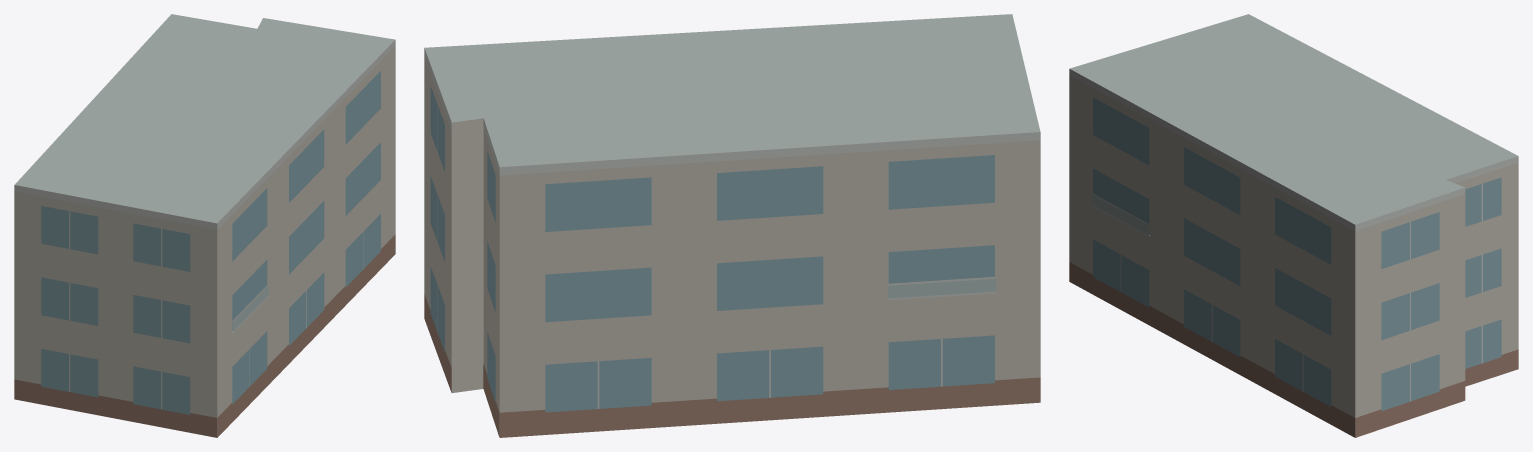
The model's file is survey-upis-33036124.glb.
3 renders of one model, left to right at view 1: azimuth 30°, elevation 25°; view 2: azimuth 150°, elevation 25°; view 3: azimuth 270°, elevation 25°, orthographic. The views are drawn at different scales.
Visible parts, largest first — view 1: survey-upis-33036124.tmp; view 2: survey-upis-33036124.tmp; view 3: survey-upis-33036124.tmp.
Boxes of the visible parts, x1,y1,x2,y2 form: survey-upis-33036124.tmp: (14,14,395,437); survey-upis-33036124.tmp: (424,14,1040,437); survey-upis-33036124.tmp: (1069,14,1518,437).
Size of the model in its own units: 16.96 by 7.99 by 15.27.
